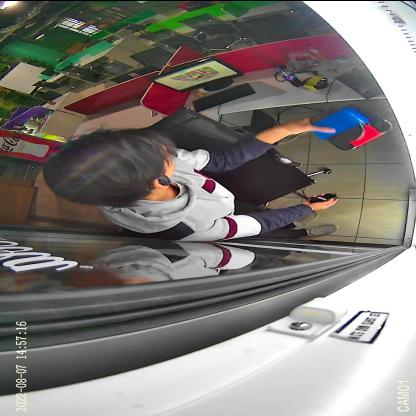blue: (310, 105, 372, 143)
red: (332, 102, 393, 150)
